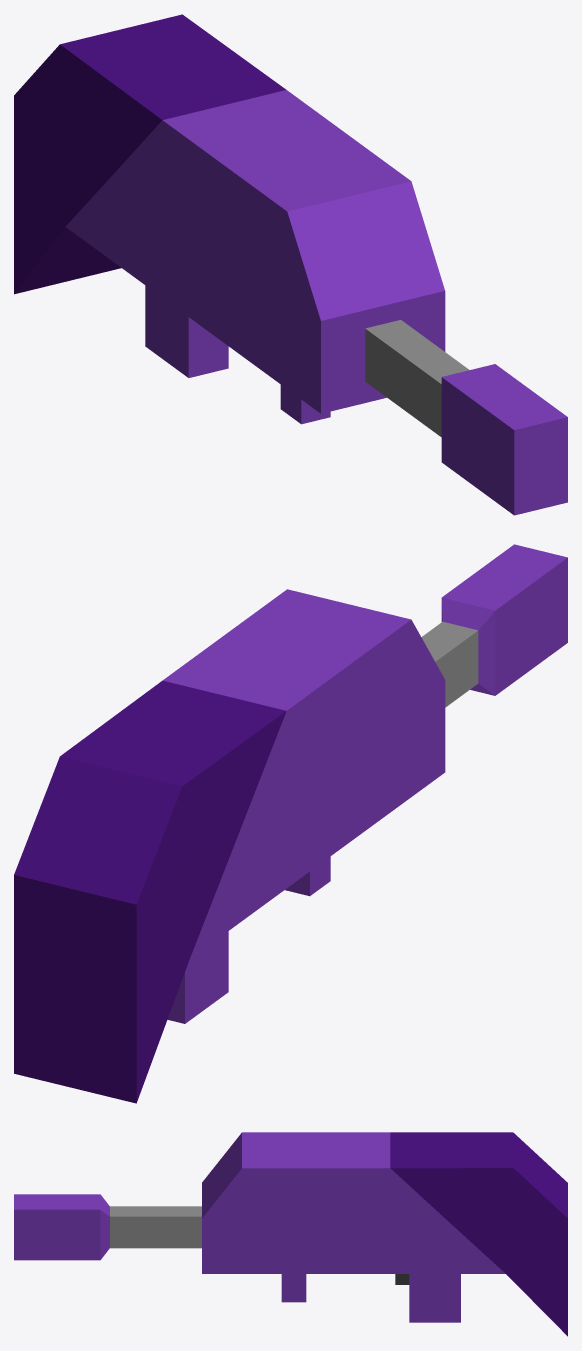
File: laser_cannon.glb
3 views of the same model, one above another, from view 1: azimuth 30°, elevation 25°; view 2: azimuth 150°, elevation 25°; view 3: azimuth 270°, elevation 25° (orthographic). The views are drawn at different scales.
Visible parts, largest first — view 1: mesh; view 2: mesh; view 3: mesh.
Boxes of the visible parts, x1,y1,x2,y2 form: mesh: [14, 14, 567, 515]; mesh: [14, 544, 567, 1103]; mesh: [14, 1132, 567, 1336].
Bounding box in the file's own units: 0.2 × 0.4365 × 1.3.
Materials: 1 (1 with a texture image).
